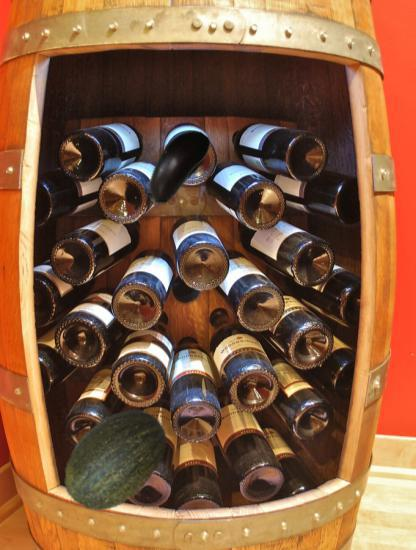Eggplant: (130, 121, 220, 211)
Melon: (59, 403, 177, 521)
